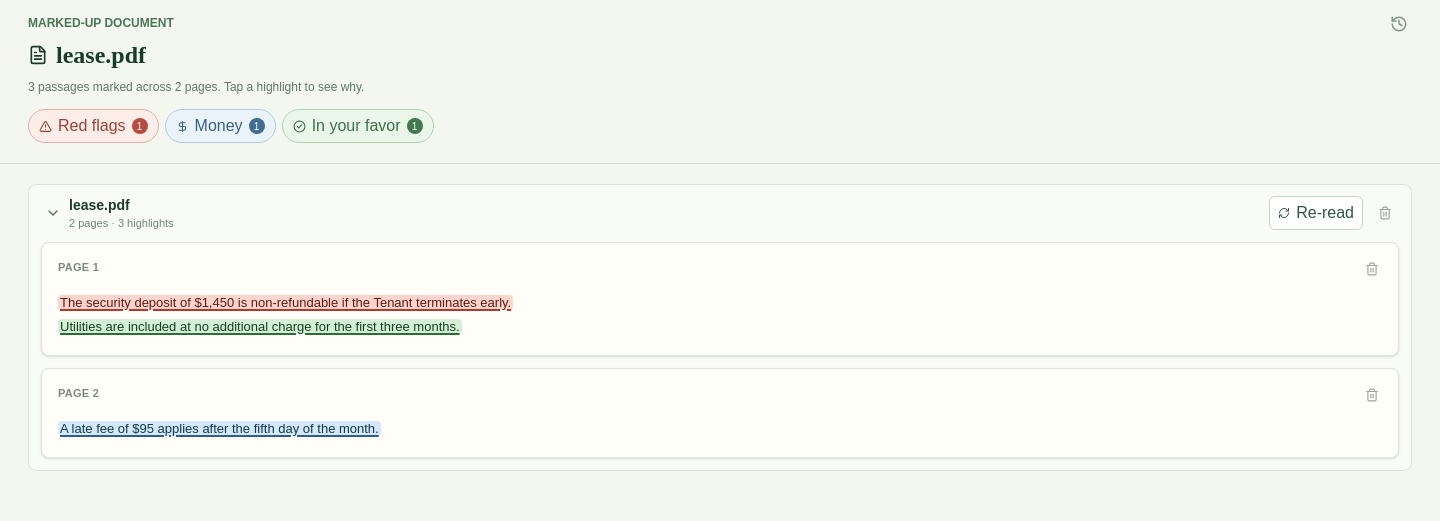
Test: deleting a page › keeps the page when saving the deletion fails
Click the button named "Delete page 2": (1372, 394) [1358, 380, 1386, 408]
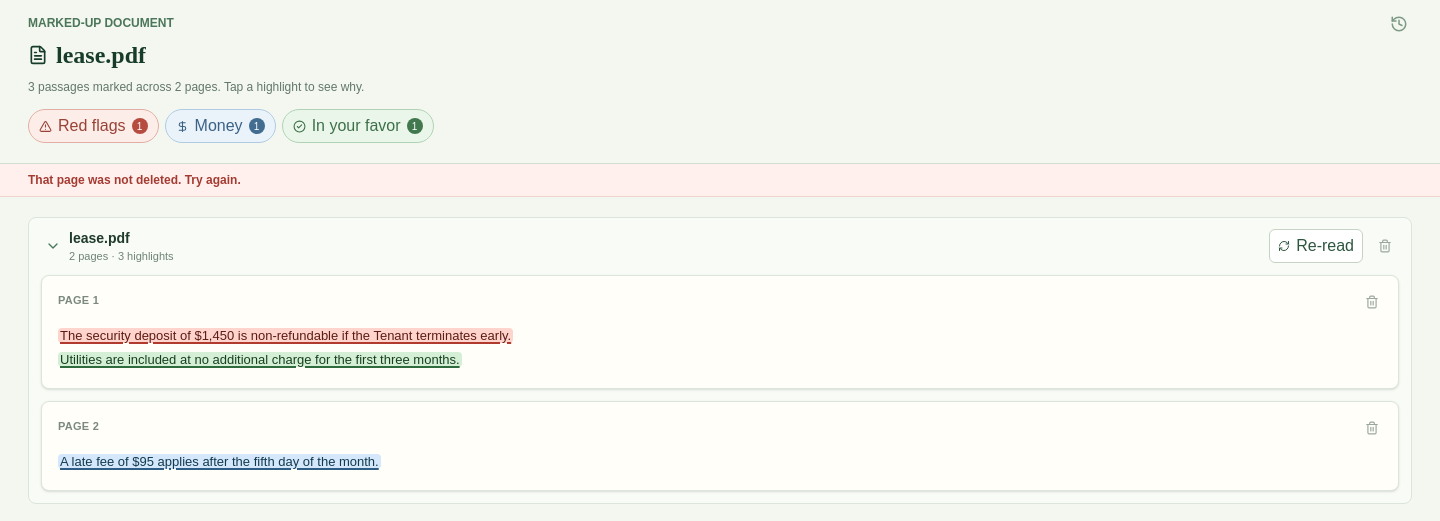
Result: the message shows "was not deleted" at [28, 173, 241, 187]
